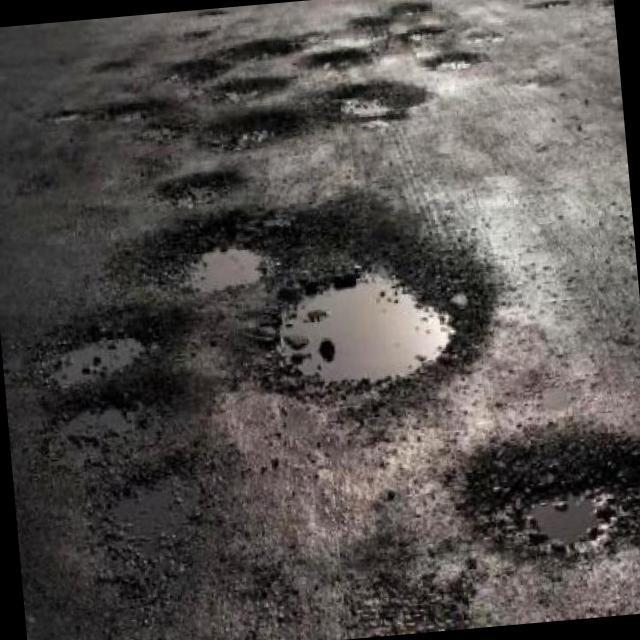Pothole: (457, 426, 640, 557), (276, 271, 457, 385), (31, 328, 150, 403), (324, 80, 430, 131), (194, 111, 309, 153), (174, 247, 271, 295), (155, 171, 245, 214)
